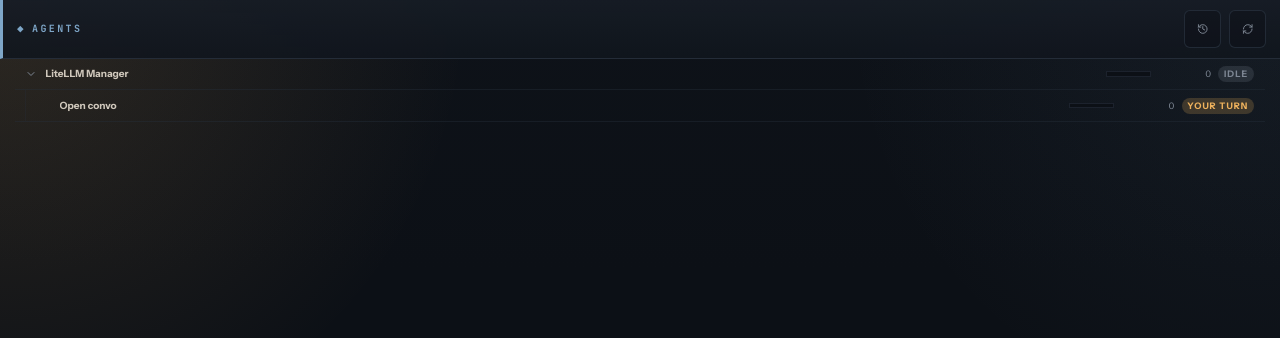
SessionList history filter › still reveals a closed session that declares no mode
What coordinates should you click on to do the following:
click the button named "show closed sessions"
I would click on:
 (1202, 29)
Its box is [1184,10,1221,48].
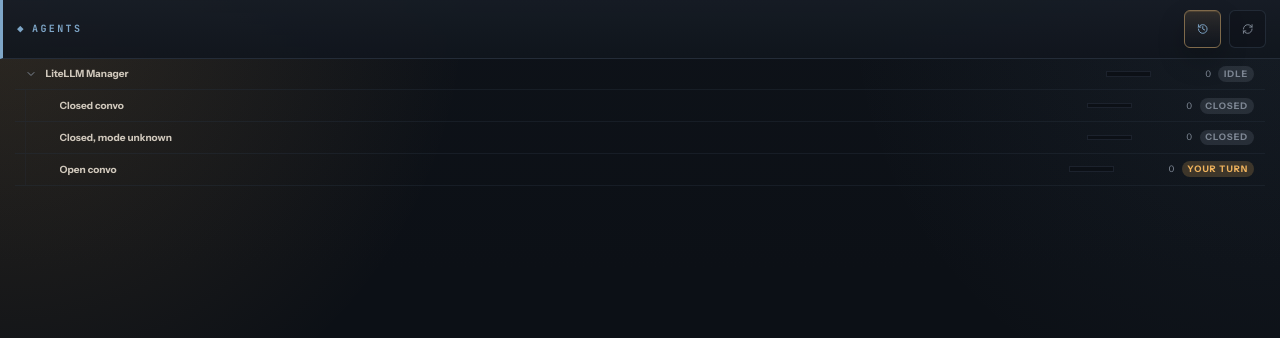
Expected: the text "Closed, mode unknown" is shown, [60,131,172,144]
